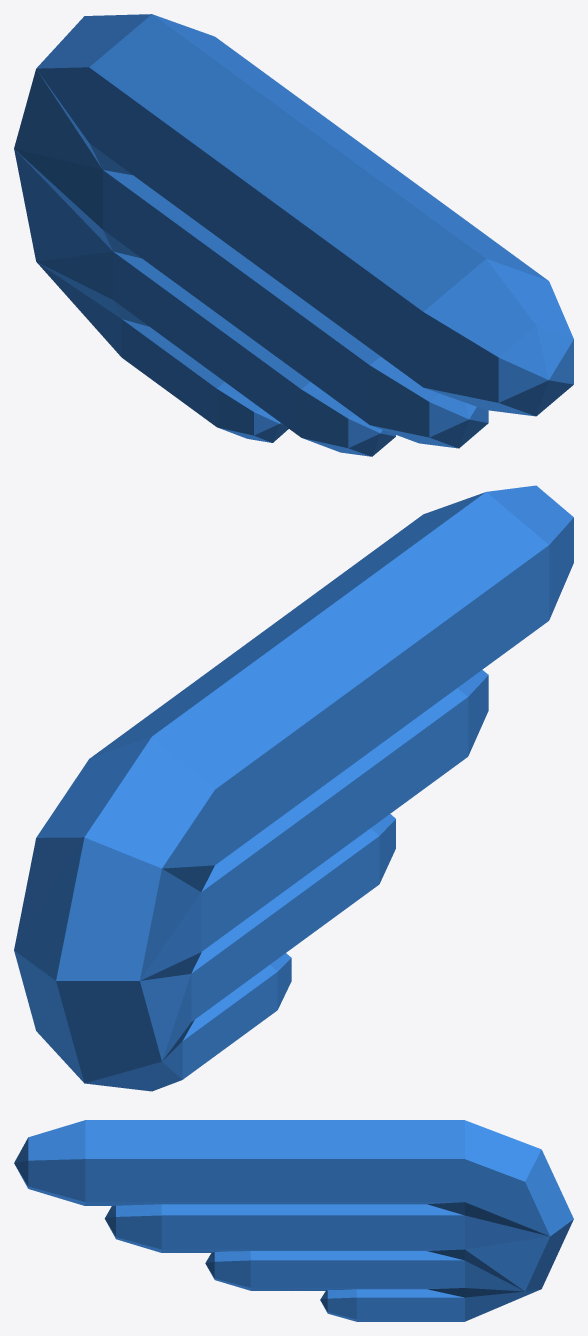
The model's file is wing.FBX.
3 renders of one model, top to bottom at view 1: azimuth 30°, elevation 25°; view 2: azimuth 150°, elevation 25°; view 3: azimuth 270°, elevation 25°, orthographic. The views are drawn at different scales.
Parts seen in each view (by area): view 1: VIFS001; view 2: VIFS001; view 3: VIFS001.
Boxes of the visible parts, x1,y1,x2,y2 form: VIFS001: (14, 14, 573, 456); VIFS001: (14, 485, 573, 1091); VIFS001: (14, 1120, 573, 1321).
Size of the model in its own units: 0.174 by 0.469 by 1.18.
